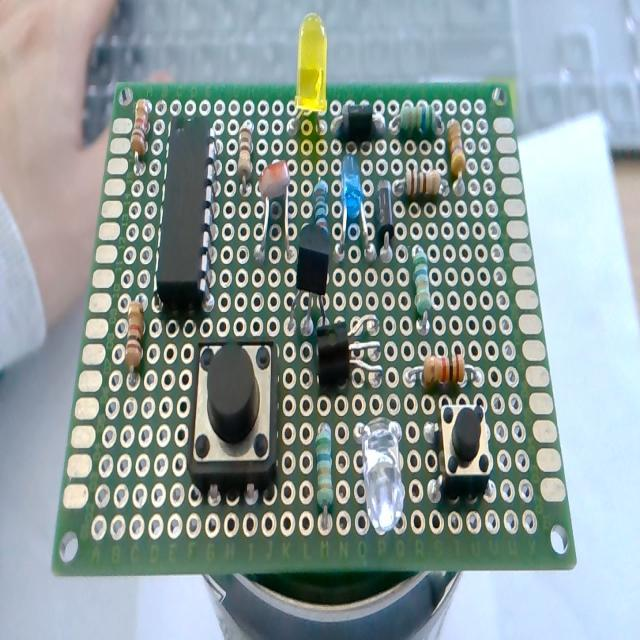cds: (255, 154, 297, 276)
diode: (329, 98, 390, 148), (373, 166, 398, 270)
led: (352, 412, 408, 544), (286, 9, 328, 141), (332, 152, 372, 262)
resistor: (305, 410, 339, 542), (394, 352, 490, 394), (404, 235, 437, 342), (124, 87, 158, 184), (123, 292, 152, 392), (386, 100, 443, 146), (393, 164, 451, 208), (446, 111, 470, 201), (231, 114, 255, 195), (313, 175, 332, 232)
switch: (187, 327, 285, 510), (154, 115, 218, 328), (420, 399, 503, 518)
transistor: (314, 318, 386, 398), (286, 224, 334, 338)
